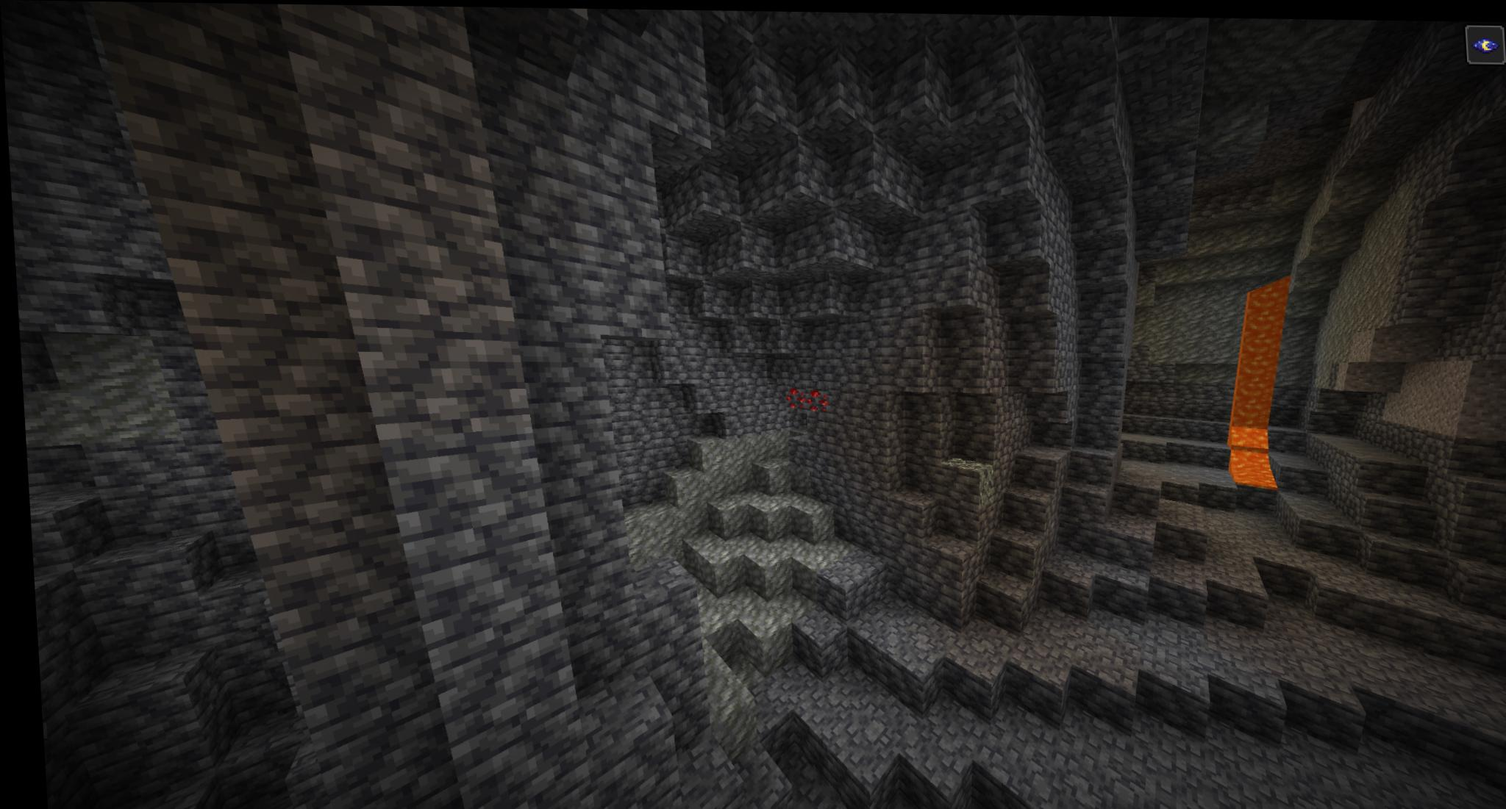redstone ore: (798, 384, 830, 416), (777, 384, 804, 408)
